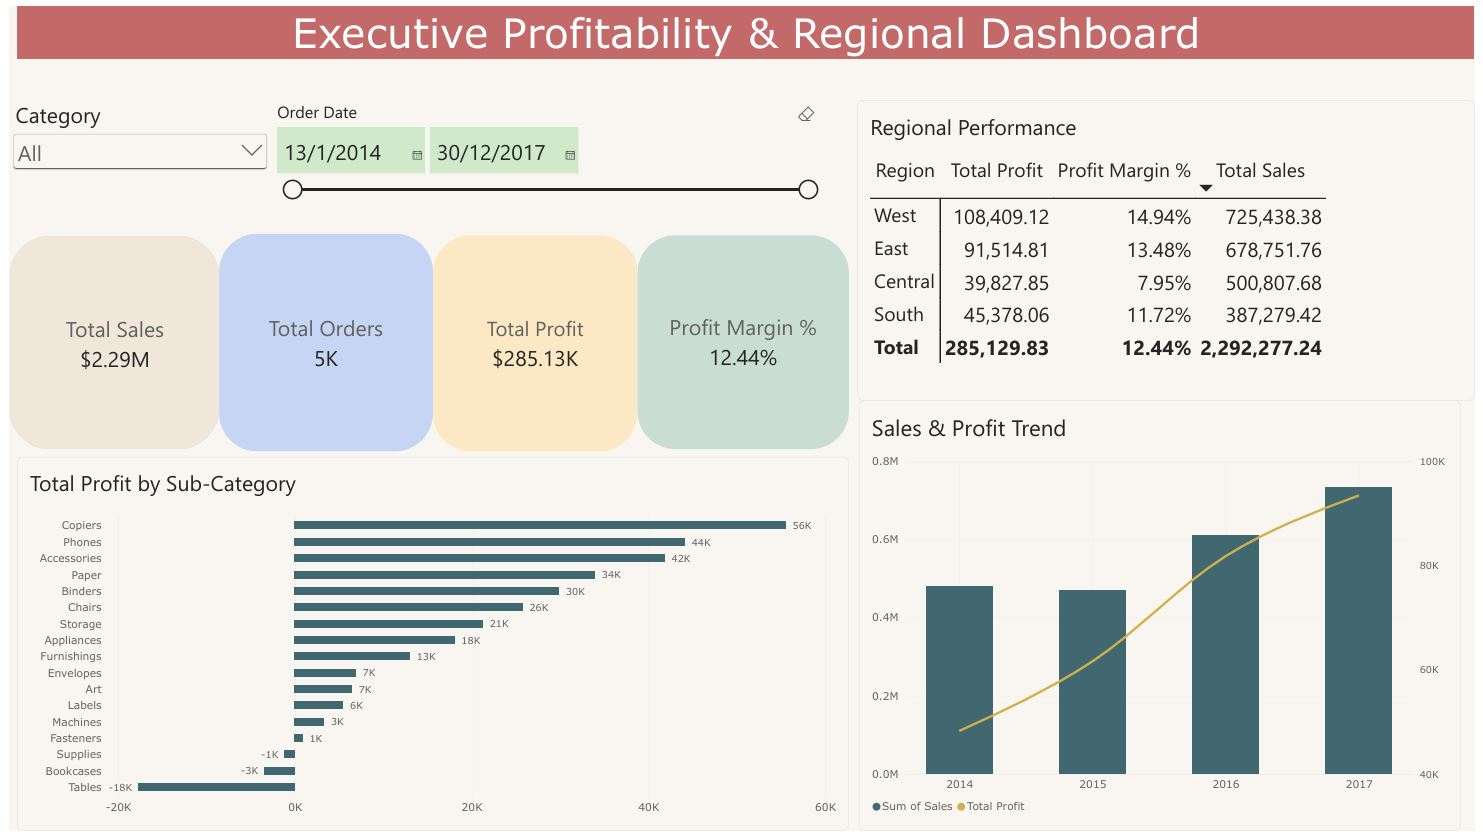

What the dashboard file says about the page in this screenshot:
{"tool":"powerbi","page":{"name":"Page 1","canvas":[1920,1080],"ordinal":0},"visuals":[{"type":"cardVisual","fields":{"Data":["Sales.Total Profit"]},"box":[555,300,267.5,282.5],"z":0},{"type":"cardVisual","fields":{"Data":["Sales.Profit Margin %"]},"box":[822.5,300,277.5,280],"z":1000},{"type":"cardVisual","fields":{"Data":["Sales.Total Orders"]},"box":[275,297.5,280,285],"z":2000},{"type":"lineClusteredColumnComboChart","title":"Sales & Profit Trend","fields":{"Category":["Sales.Order Date.Variation.Date Hierarchy.Year","Sales.Order Date.Variation.Date Hierarchy.Quarter","Sales.Order Date.Variation.Date Hierarchy.Month","Sales.Order Date.Variation.Date Hierarchy.Day"],"Y":["Sum(Sales.Sales)"],"Y2":["Sales.Total Profit"]},"box":[1112.8,516,789.2,564.5],"z":3000},{"type":"clusteredBarChart","fields":{"Category":["Sales.Sub-Category"],"Y":["Sales.Total Profit"]},"box":[10,590,1090,490],"z":4000},{"type":"pivotTable","title":"Regional Performance","fields":{"Rows":["Sales.Region"],"Values":["Sales.Total Profit","Sales.Profit Margin %","Sales.Total Sales Correct"]},"box":[1111.4,122.9,808.6,394.3],"z":5000},{"type":"textbox","box":[11.4,0,1908.6,68.6],"z":6000},{"type":"slicer","fields":{"Values":["Sales.Category"]},"box":[0,122.5,342.5,140],"z":7000},{"type":"slicer","fields":{"Values":["Sales.Order Date"]},"box":[342.9,122.9,720,177.1],"z":8000},{"type":"cardVisual","fields":{"Data":["Sales.Total Sales"]},"box":[0,301.2,275.3,278.8],"z":9000}]}

Visuals, with their boxes in screenshot pixels (x1, y1, x2, y2), scaled from the page's 1920x1080 canvas onto the 1483x838 screenshot:
cardVisual - Sales.Total Profit: box(429, 233, 635, 452)
cardVisual - Sales.Profit Margin %: box(635, 233, 850, 450)
cardVisual - Sales.Total Orders: box(212, 231, 429, 452)
"Sales & Profit Trend" lineClusteredColumnComboChart: box(860, 400, 1469, 837)
clusteredBarChart - Sales.Sub-Category x Sales.Total Profit: box(8, 458, 850, 837)
"Regional Performance" pivotTable: box(858, 95, 1482, 401)
textbox: box(9, 0, 1482, 53)
slicer - Sales.Category: box(0, 95, 265, 204)
slicer - Sales.Order Date: box(265, 95, 821, 233)
cardVisual - Sales.Total Sales: box(0, 234, 213, 450)
